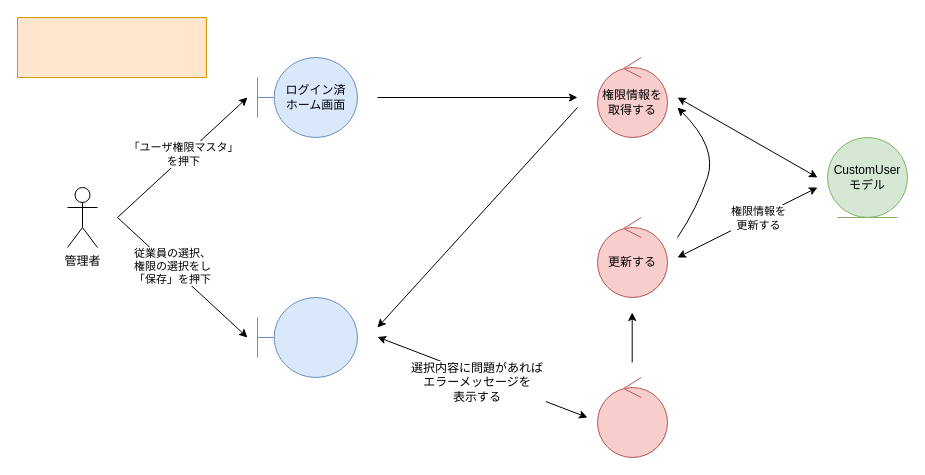
Image size: 925x475. Some labels were removed from this diagram. Here are the shapes that lost their labels. From the top down, the centre of each, then its label:
At pixel 111 47: "ユーザ権限編集".
At pixel 307 337: "権限編集 画面".
At pixel 632 417: "更新内容を検証する".
